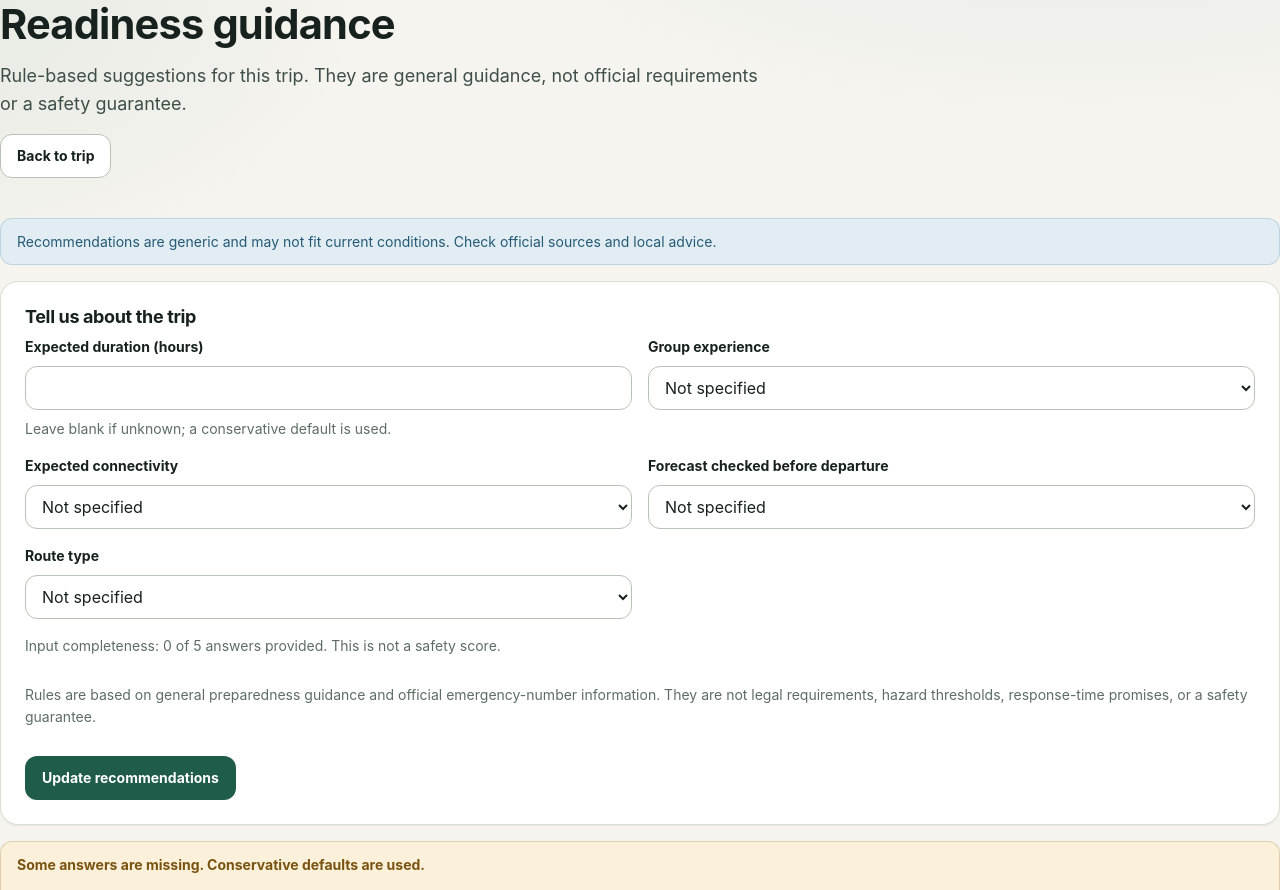
GuidancePage › warns about missing inputs and saves answers while preserving trusted-contact fields
Expected: the text "Some answers are missing. Conservative defaults are used." is shown, [17,856,425,873]
Expected: the text "This is not a safety score" is shown, [25,637,501,654]
Type "8" into the number field labelled "Expected duration (hours)".
click(328, 388); type("8")  # box [25,366,632,410]
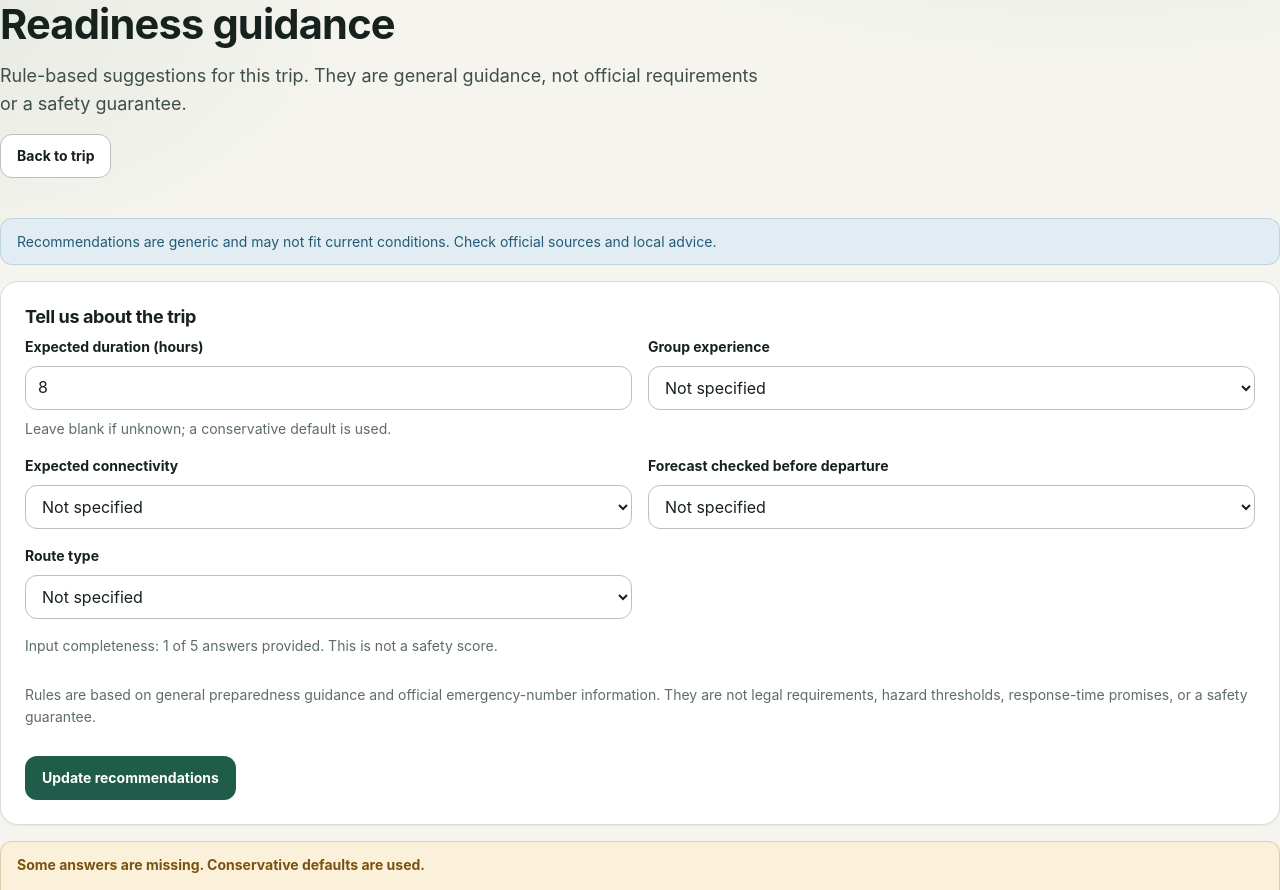
Select "First time" in the dropdown labelled "Group experience" at (952, 388), box [648,366,1255,410]
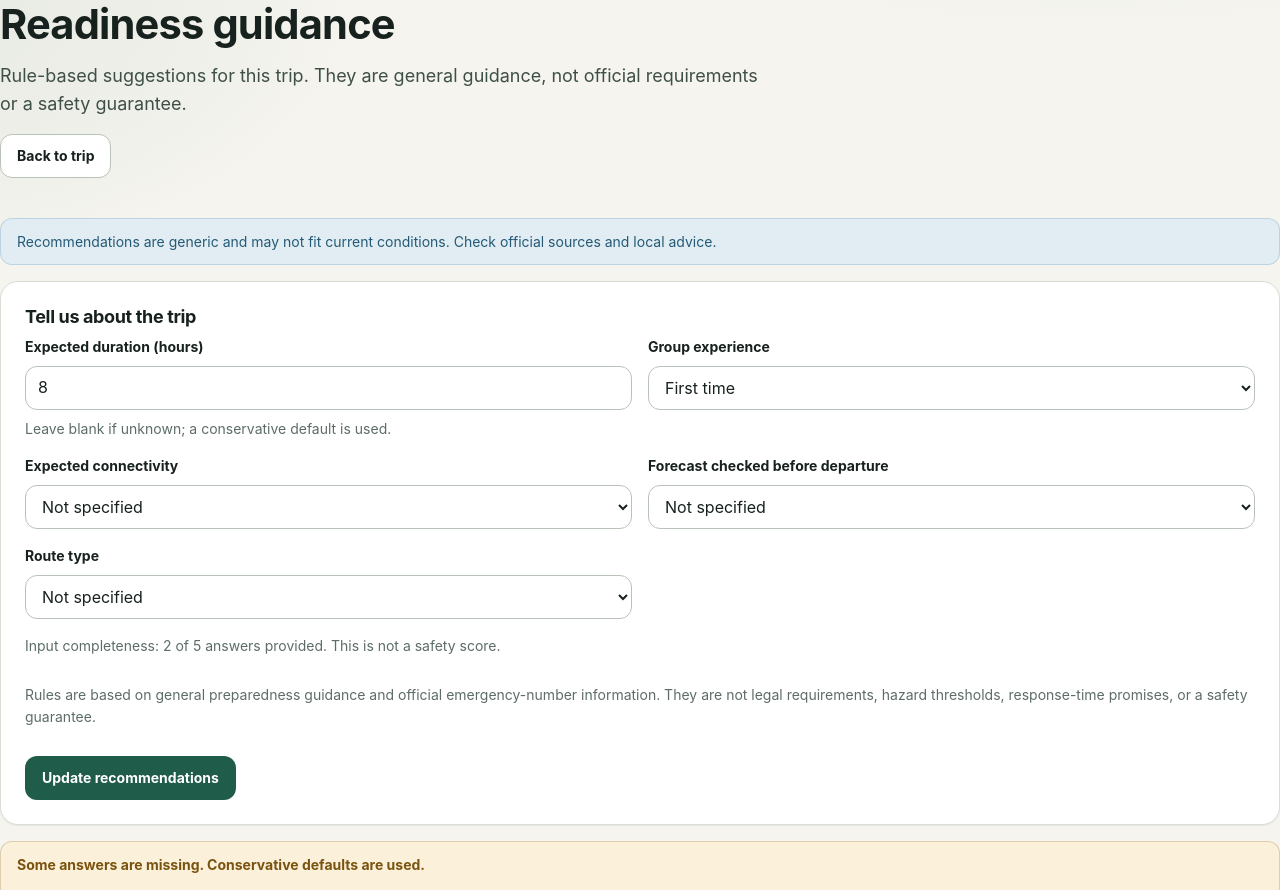
Select "No signal" in the dropdown labelled "Expected connectivity" at (328, 507), box [25,485,632,529]
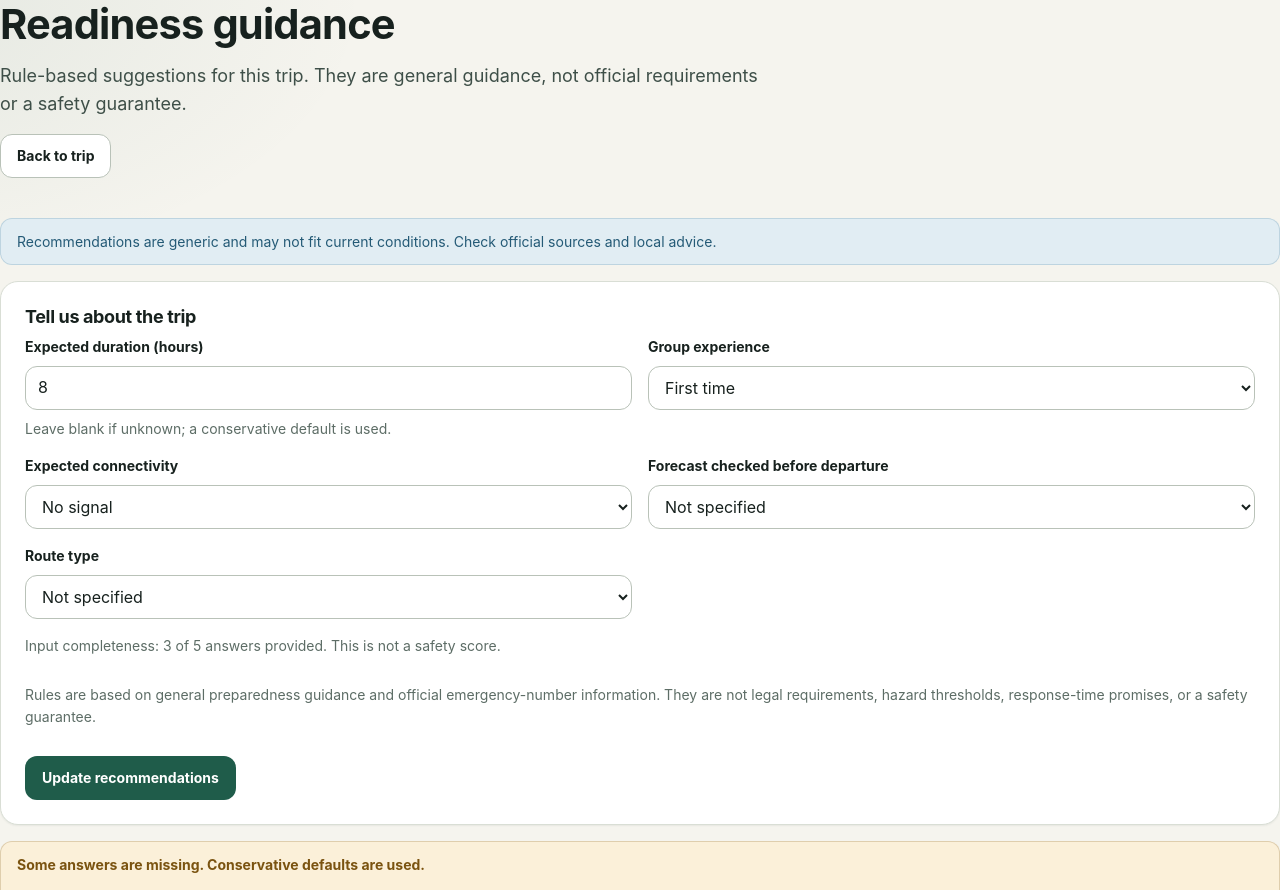
Select "No" in the dropdown labelled "Forecast checked before departure" at (952, 507), box [648,485,1255,529]
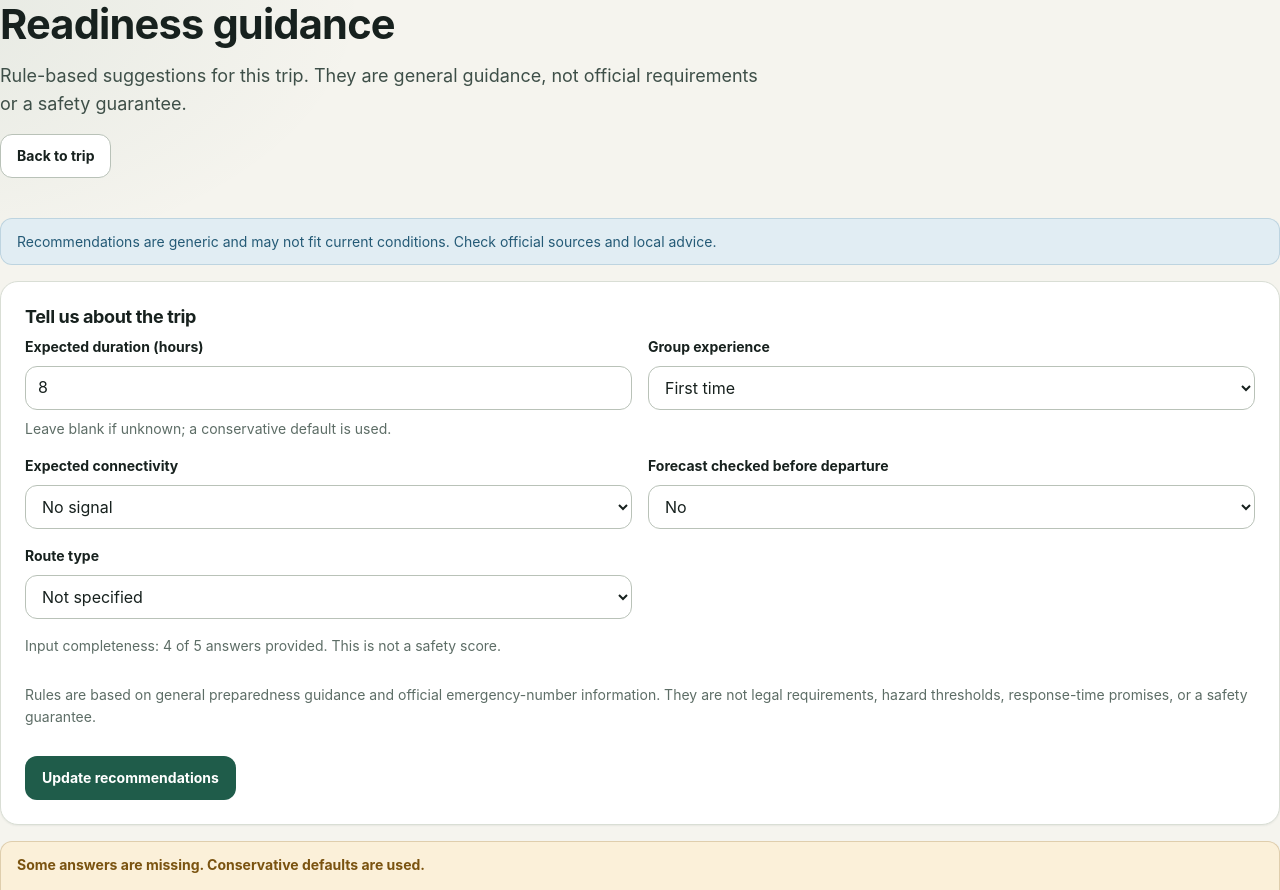
Select "Unmarked route" in the dropdown labelled "Route type" at (328, 597), box [25,575,632,619]
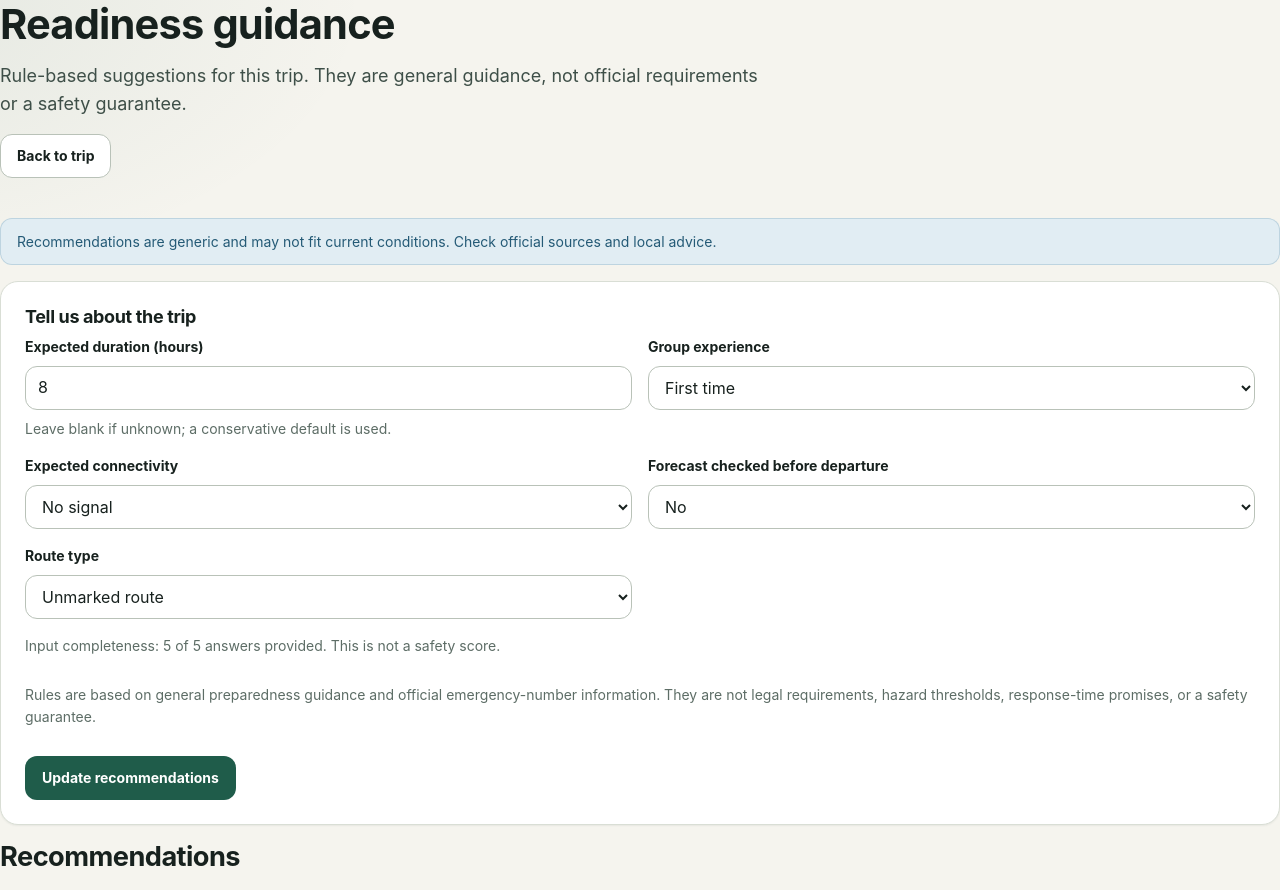
Click the button "Update recommendations".
click(130, 778)  # box [25,756,236,800]
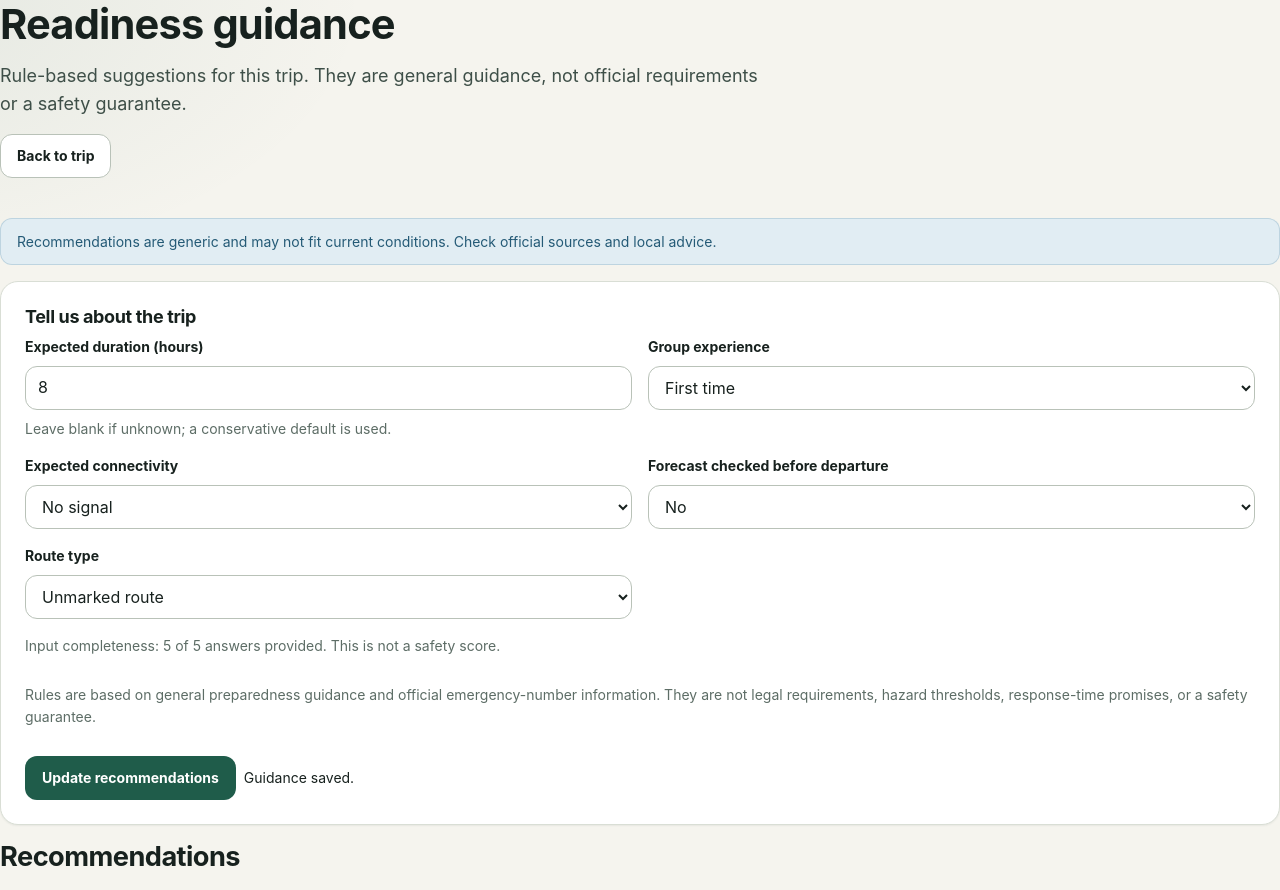
Result: the text "Guidance saved." is shown at [244,767,354,789]
